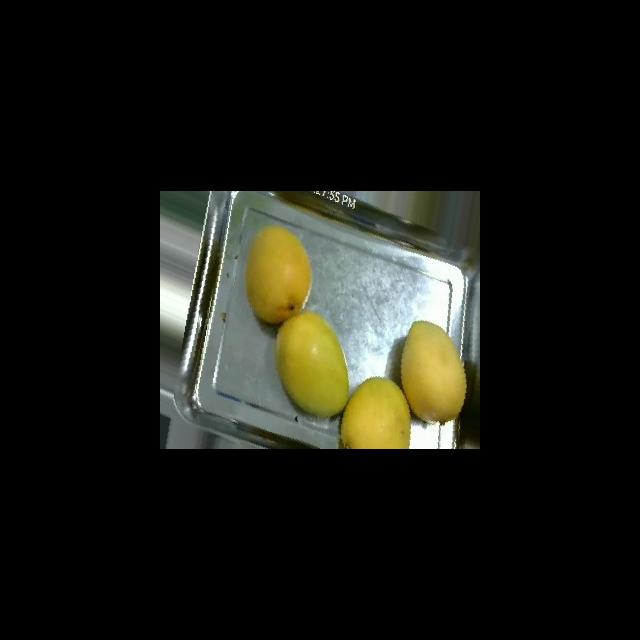Mango: (275, 311, 349, 418), (400, 319, 467, 424), (245, 225, 312, 324), (339, 376, 411, 448)
